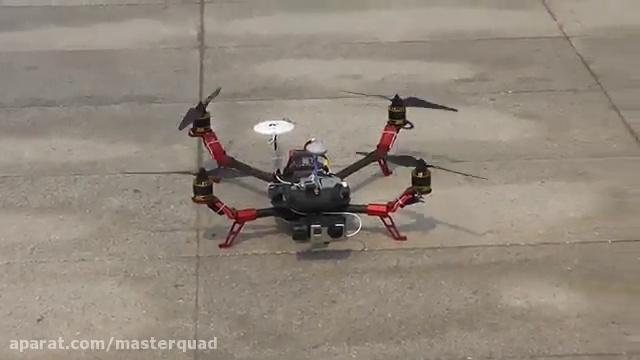drone: (124, 83, 492, 251)
